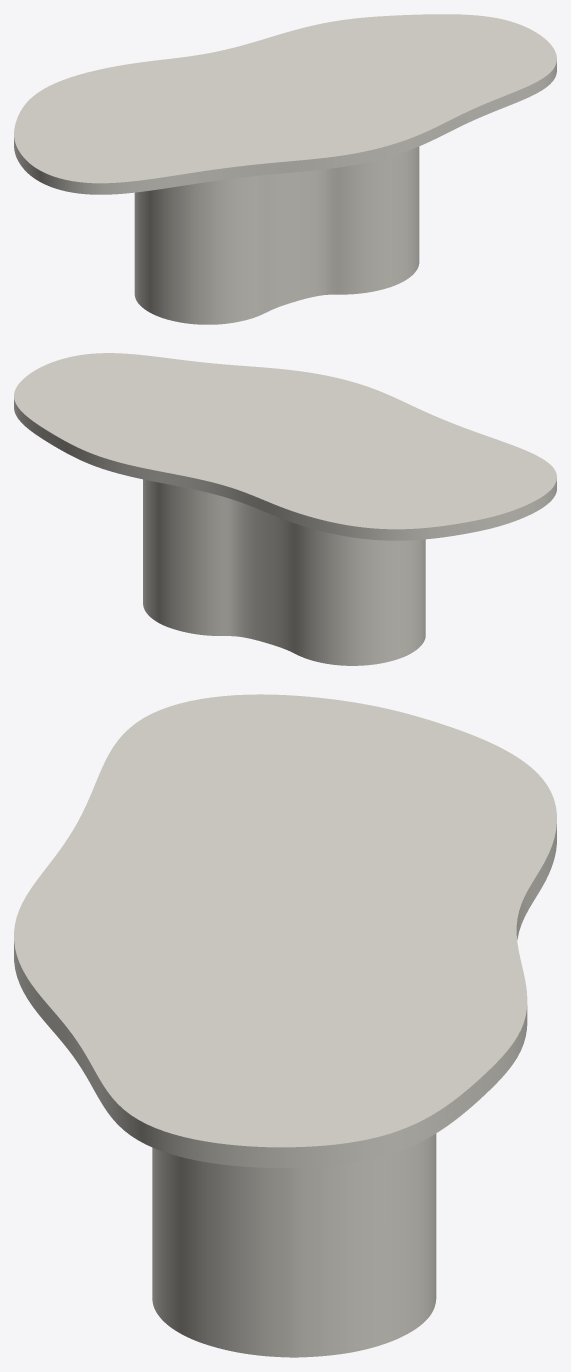
The model's file is pale_toplast_standard_riverwave.glb.
3 renders of one model, top to bottom at view 1: azimuth 30°, elevation 25°; view 2: azimuth 150°, elevation 25°; view 3: azimuth 270°, elevation 25°, orthographic. The views are drawn at different scales.
Visible parts, largest first — view 1: standard_toplast, riverwave; view 2: standard_toplast, riverwave; view 3: standard_toplast, riverwave.
Part boxes in pixels (x1=…): standard_toplast: x1=14, y1=14, x2=556, y2=194; riverwave: x1=134, y1=146, x2=419, y2=324; standard_toplast: x1=14, y1=353, x2=556, y2=540; riverwave: x1=143, y1=479, x2=425, y2=665; standard_toplast: x1=14, y1=694, x2=556, y2=1167; riverwave: x1=152, y1=1133, x2=436, y2=1357.
Bounding box in the file's own units: 7.5 × 2.5 × 3.8.
Materials: 1 (1 with a texture image).
